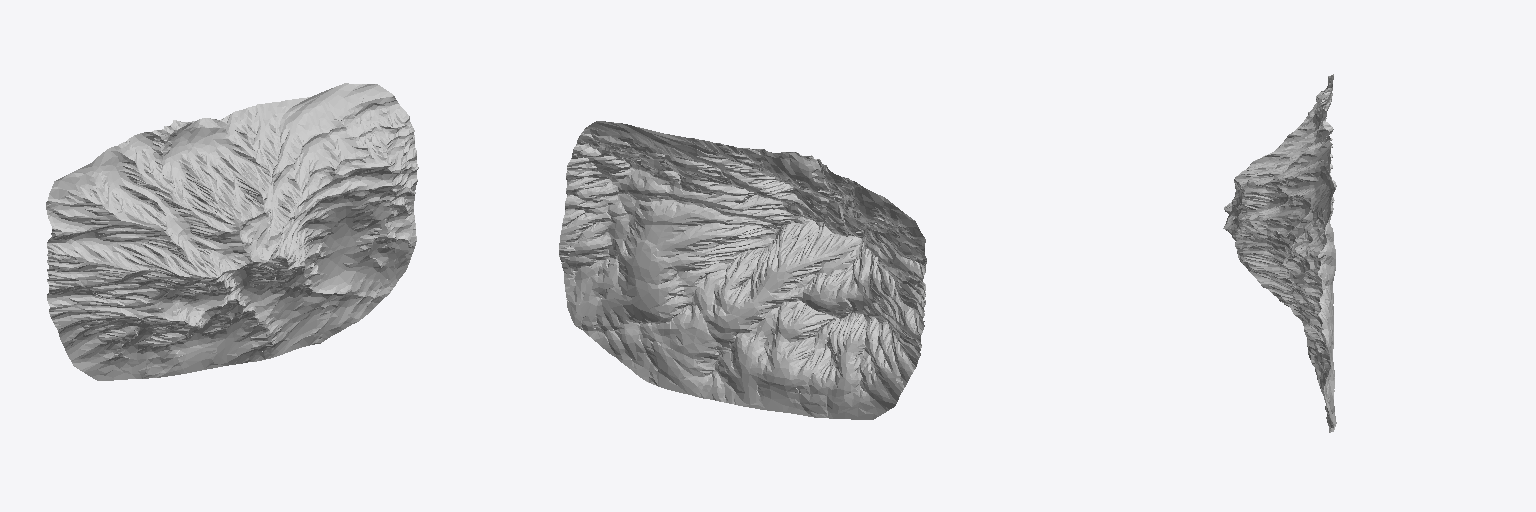
The model's file is mountain.obj.
3 views of the same model, side by side, from view 1: azimuth 30°, elevation 25°; view 2: azimuth 150°, elevation 25°; view 3: azimuth 270°, elevation 25° (orthographic).
Parts seen in each view (by area): view 1: Mountain01_heightmap.007; view 2: Mountain01_heightmap.007; view 3: Mountain01_heightmap.007.
Part boxes in pixels (bbox=[...]): Mountain01_heightmap.007: bbox=[46, 83, 418, 380]; Mountain01_heightmap.007: bbox=[559, 121, 926, 419]; Mountain01_heightmap.007: bbox=[1223, 74, 1336, 432].
Size of the model in its own units: 21328 by 14659 by 5688.